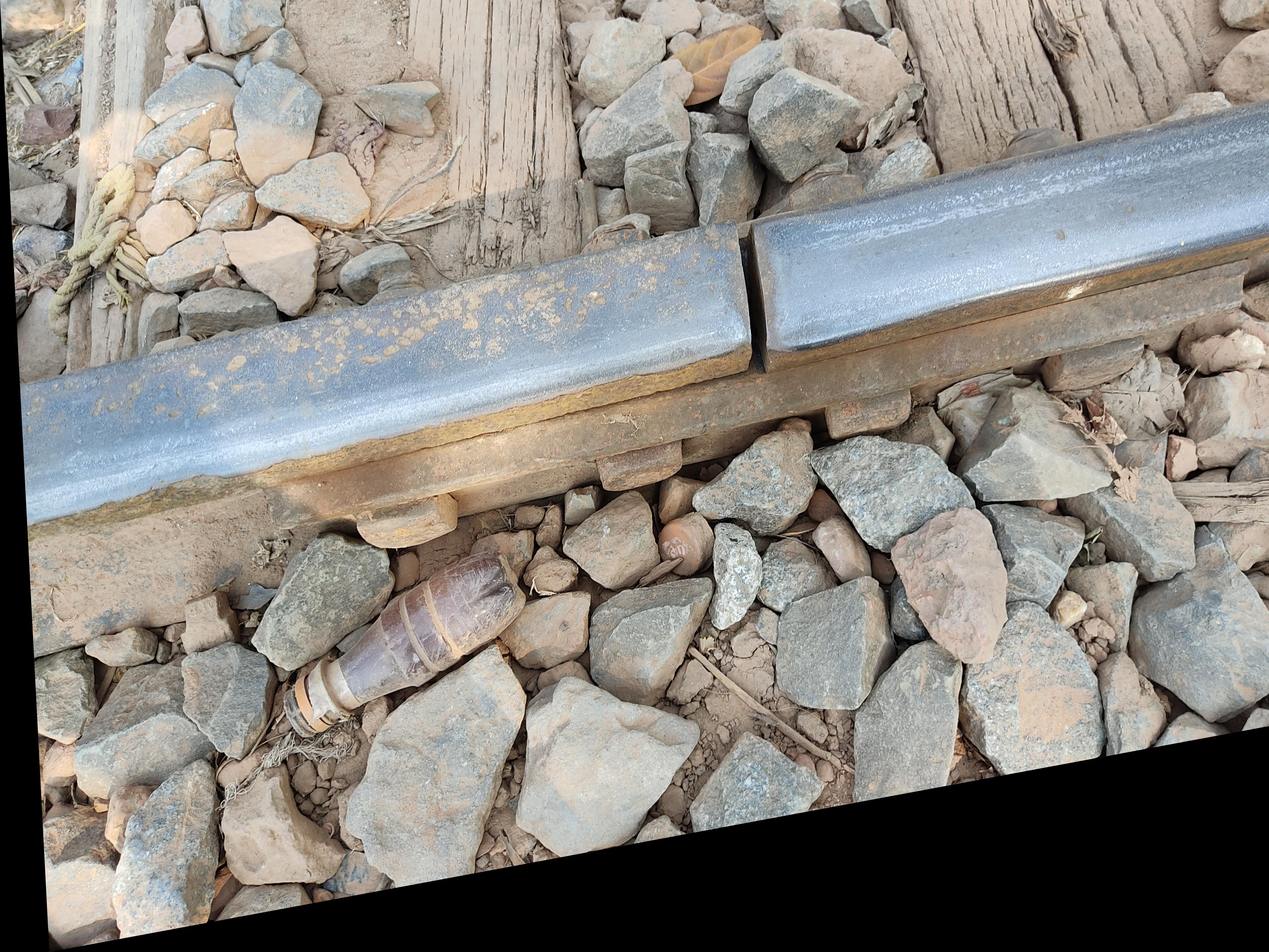person: (630, 203, 862, 439)
